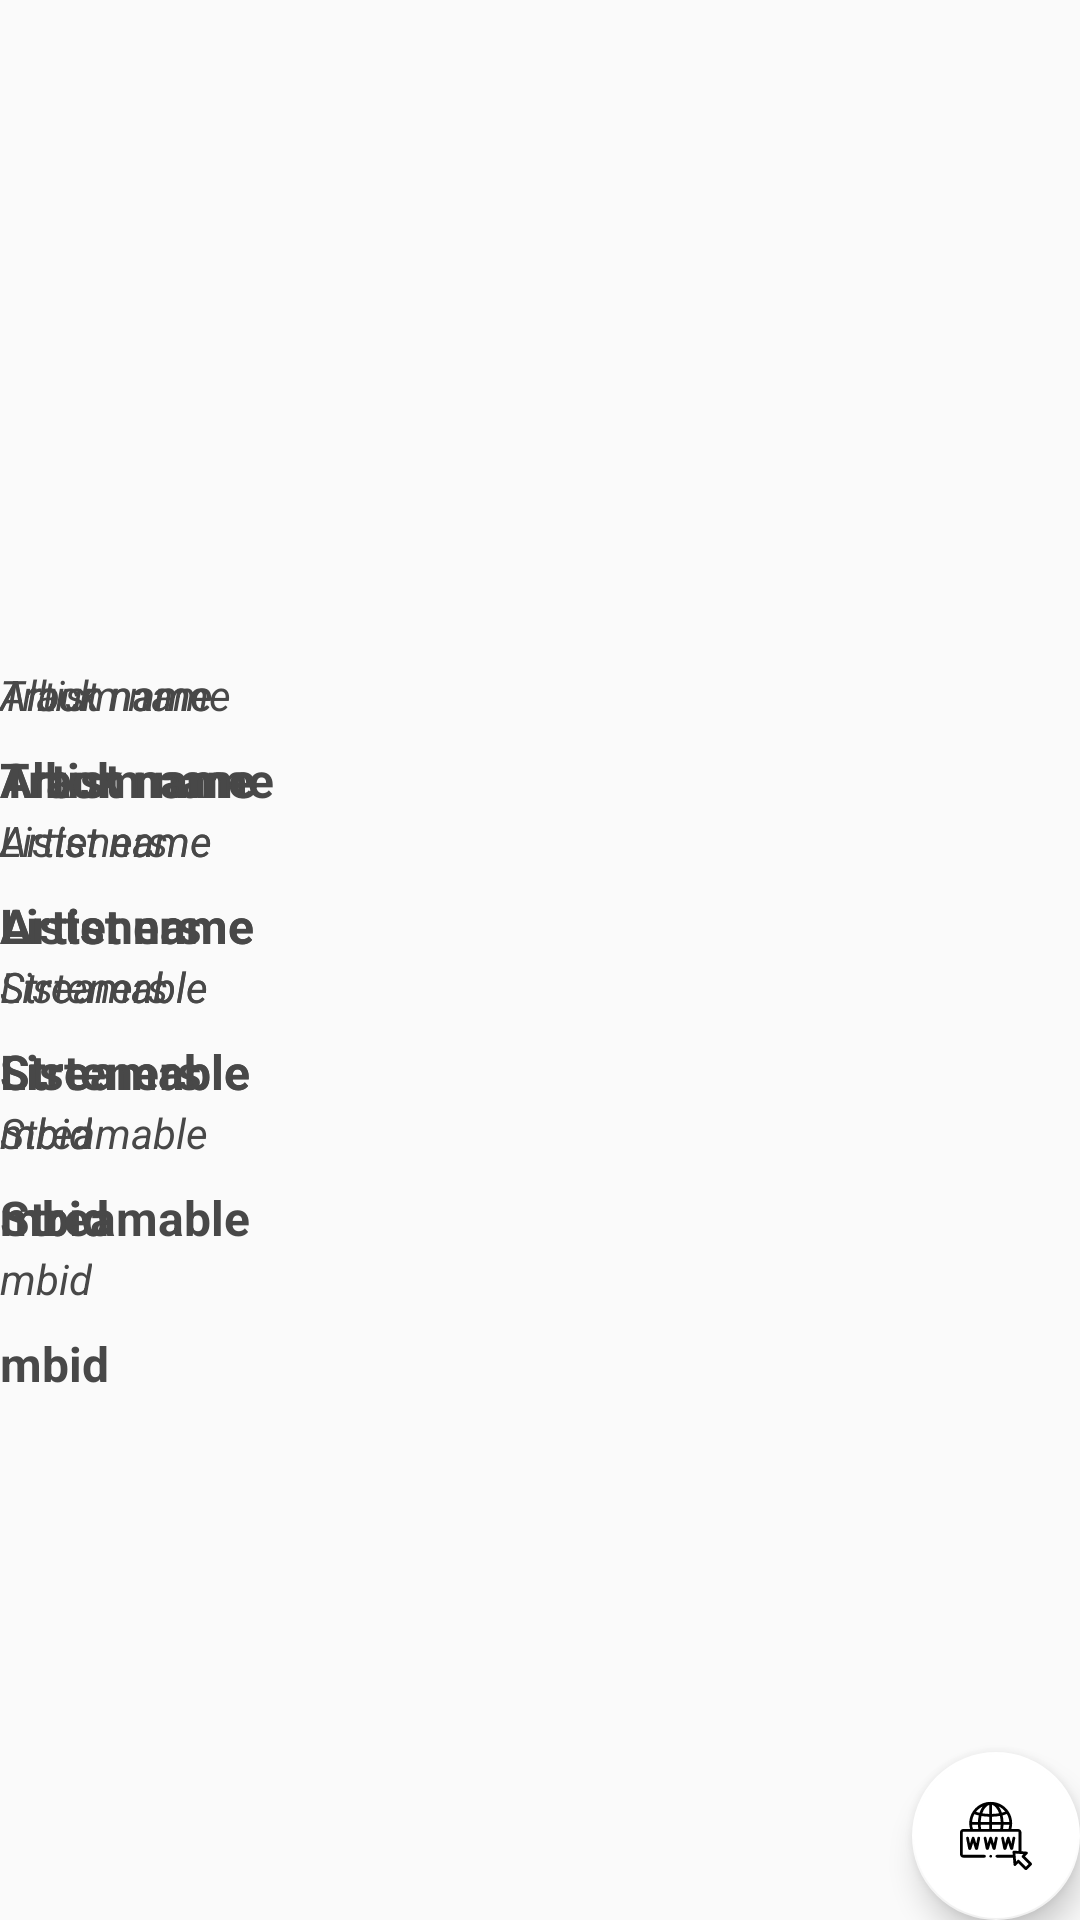

Icons on this 1080×1920 Android screen, each with the point to tap as (x,y):
domain: (999,1861)
